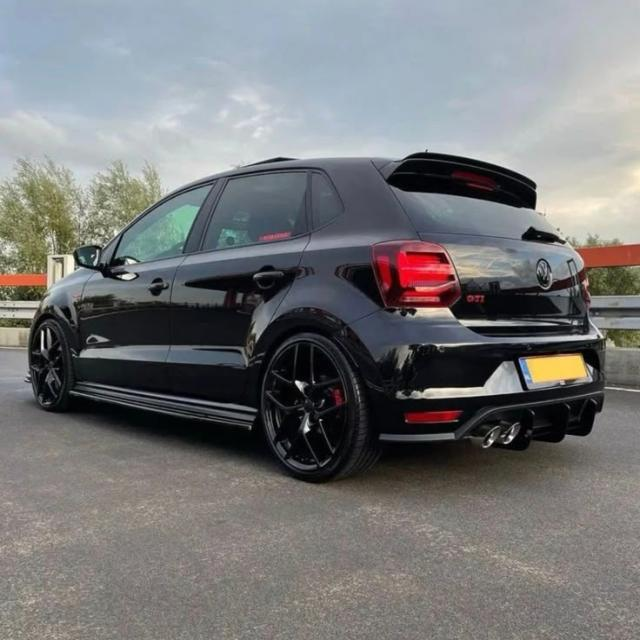Placas: (517, 352, 590, 390)
